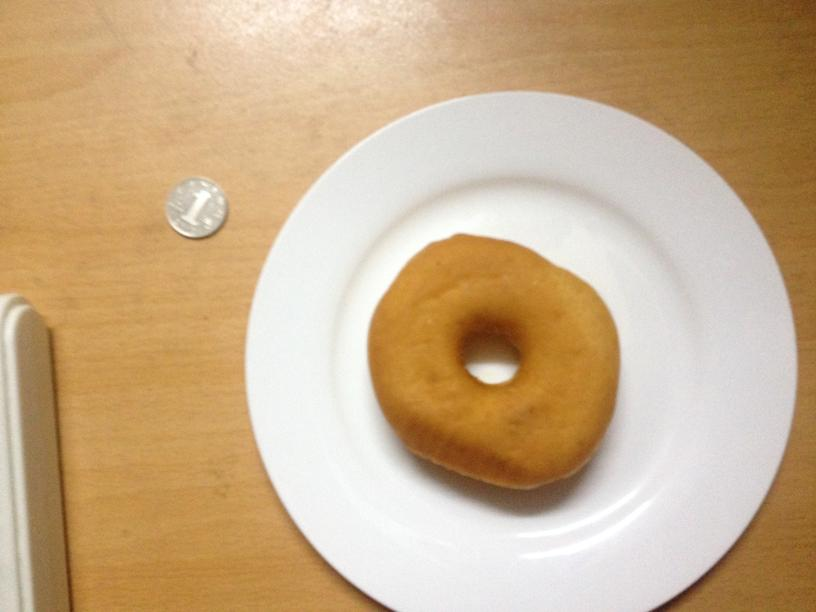coin: (163, 177, 227, 238)
doughnut: (368, 234, 620, 488)
